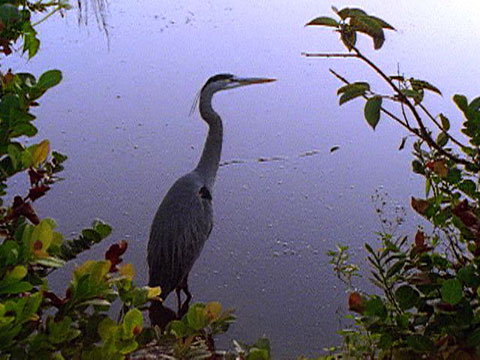heron: (143, 64, 282, 315)
